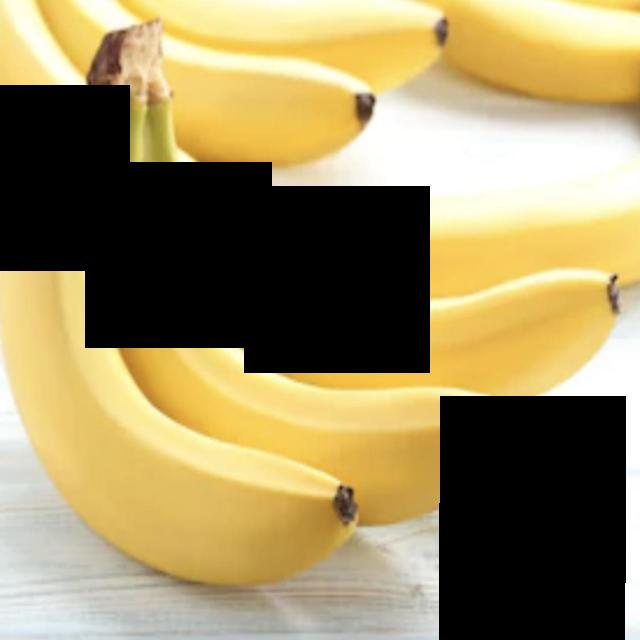banana: (79, 65, 515, 542), (0, 33, 350, 619), (173, 70, 616, 406)
